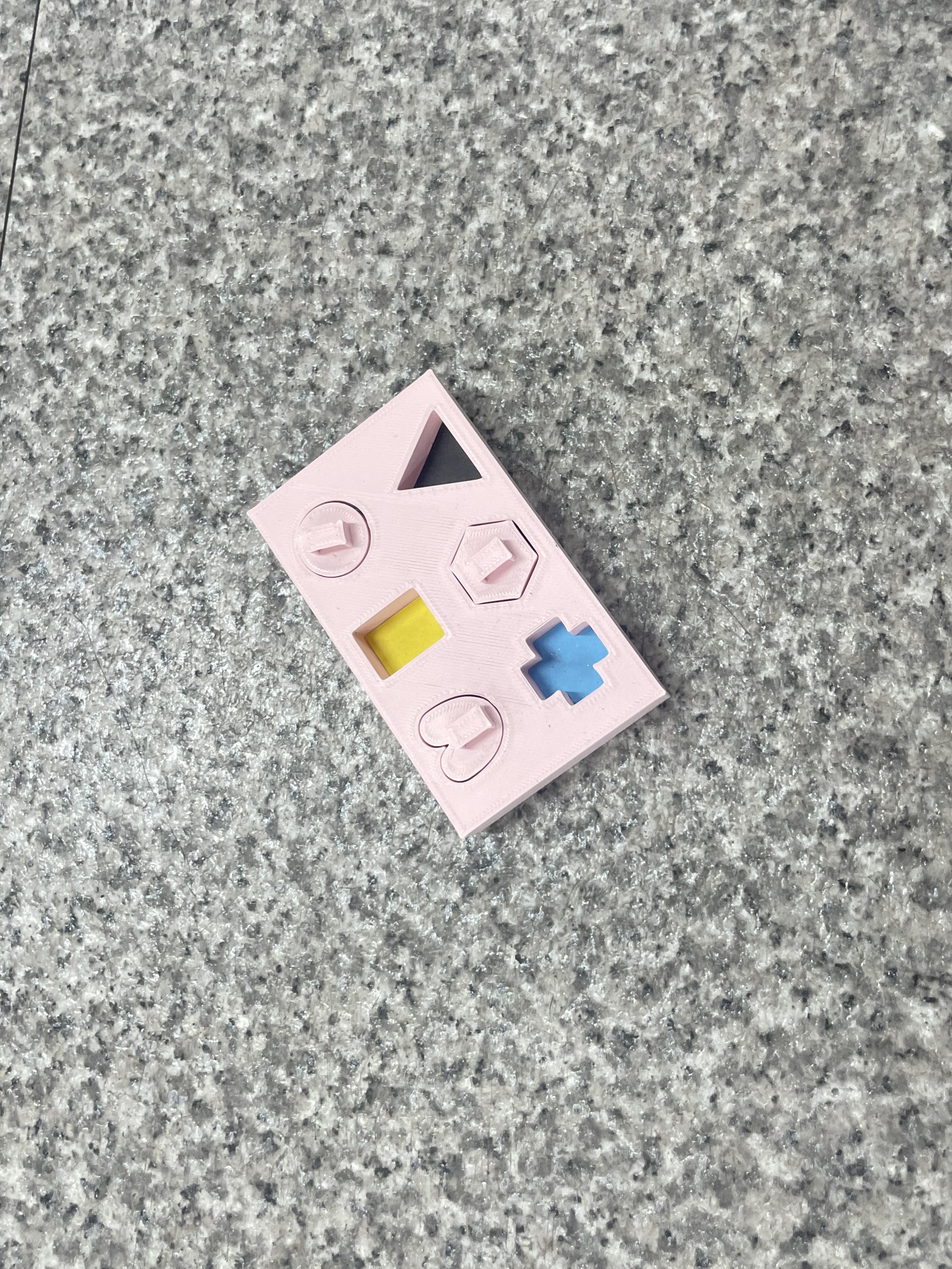unsolved: (242, 366, 687, 855)
